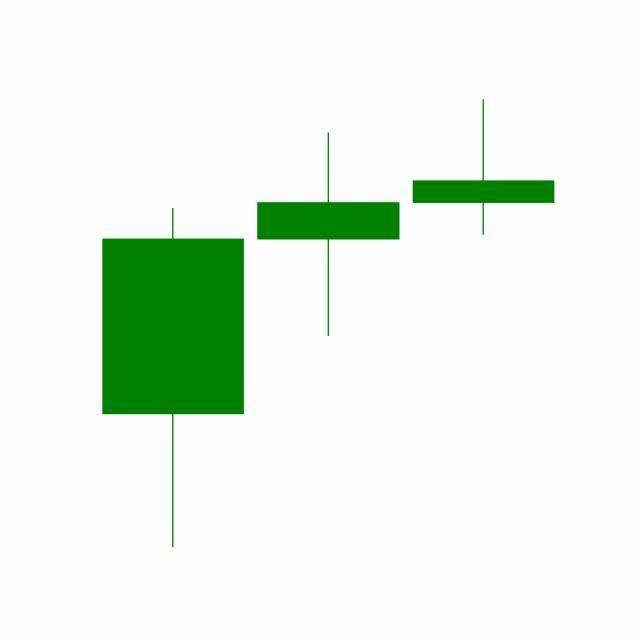Spinning Top: (406, 98, 562, 238)
